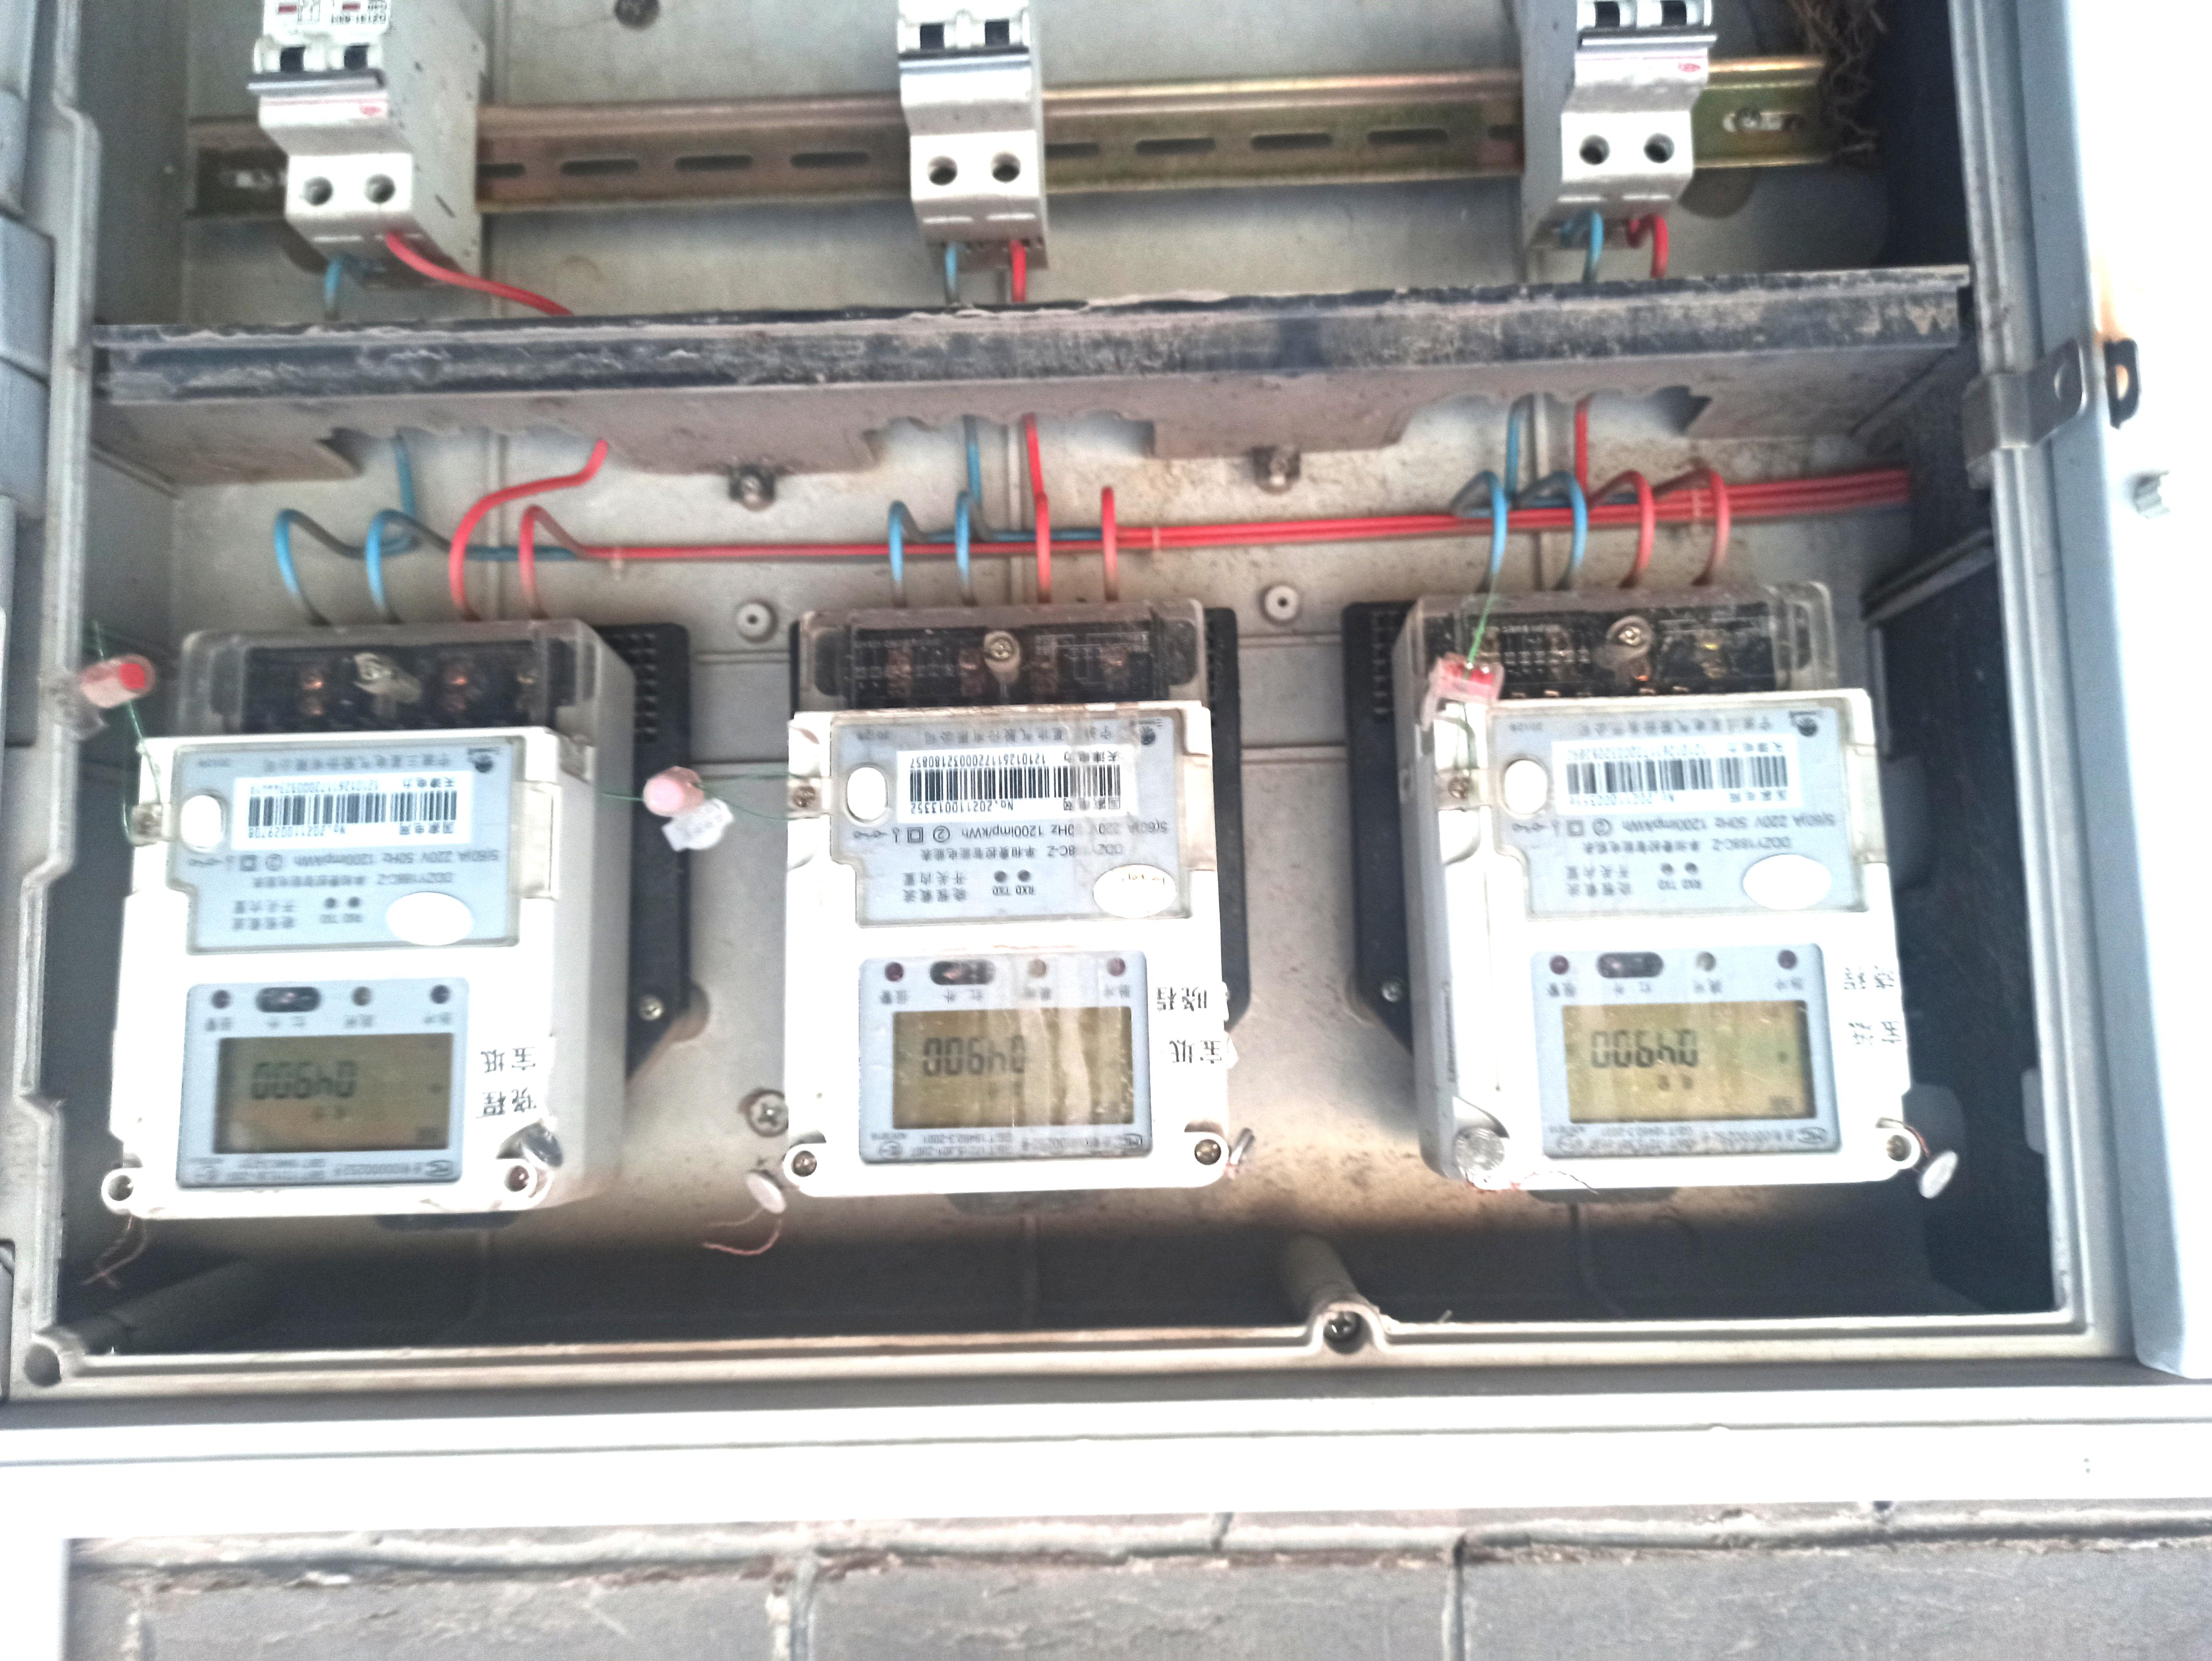digital: (1437, 693, 1908, 1186), (105, 726, 567, 1214), (787, 715, 1235, 1195)
